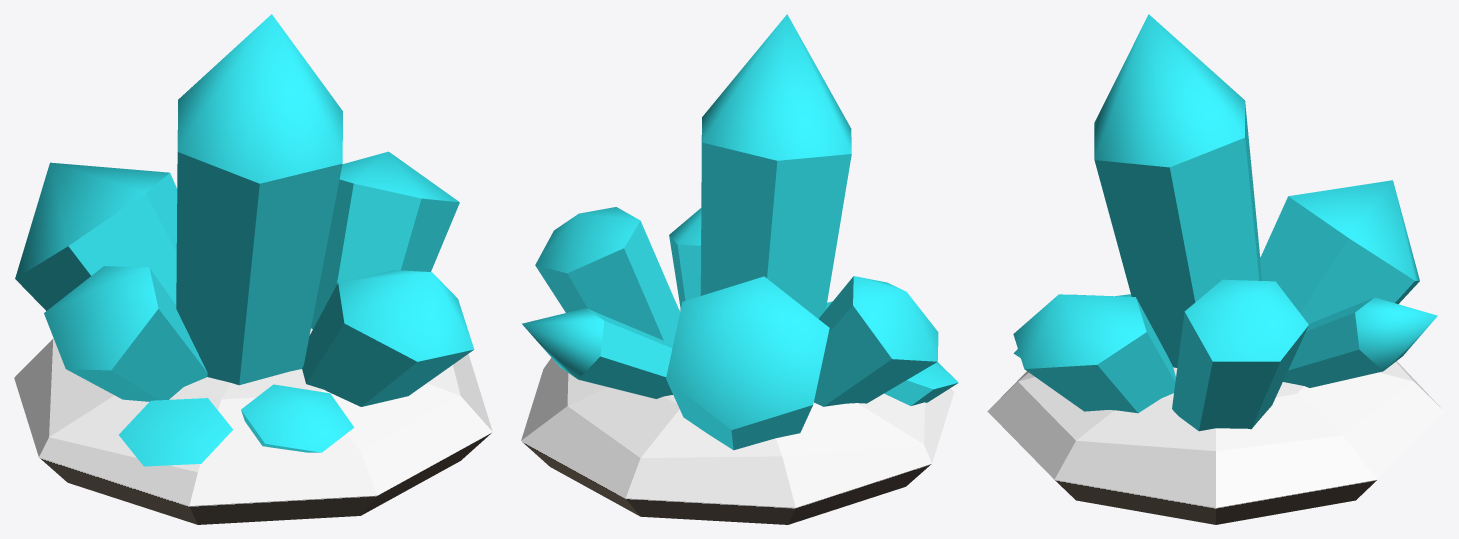
The model's file is quartz.fbx.
3 renders of one model, left to right at view 1: azimuth 30°, elevation 25°; view 2: azimuth 150°, elevation 25°; view 3: azimuth 270°, elevation 25°, orthographic. The views are drawn at different scales.
Parts seen in each view (by area): view 1: pCylinder9; view 2: pCylinder9; view 3: pCylinder9.
Part boxes in pixels (left/top/right/bottom): pCylinder9: left=14, top=14, right=492, bottom=524; pCylinder9: left=521, top=14, right=958, bottom=524; pCylinder9: left=987, top=14, right=1444, bottom=524.
Bounding box in the file's own units: 26.01 × 28.19 × 26.01.
